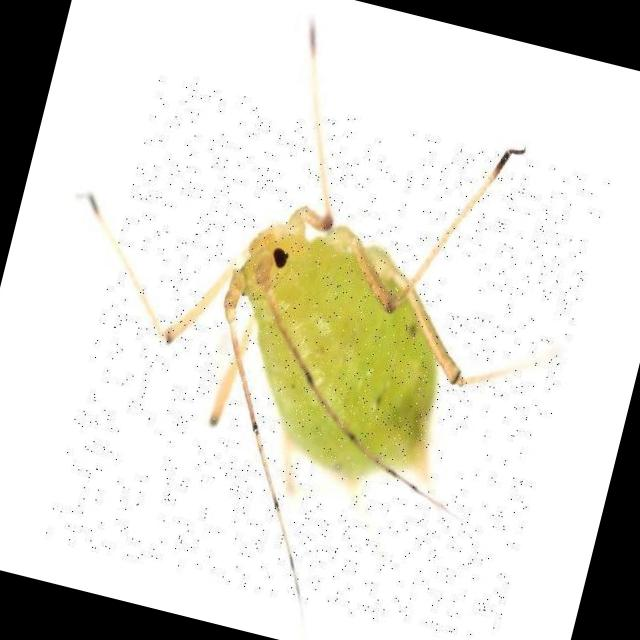aphid: (43, 68, 609, 640)
